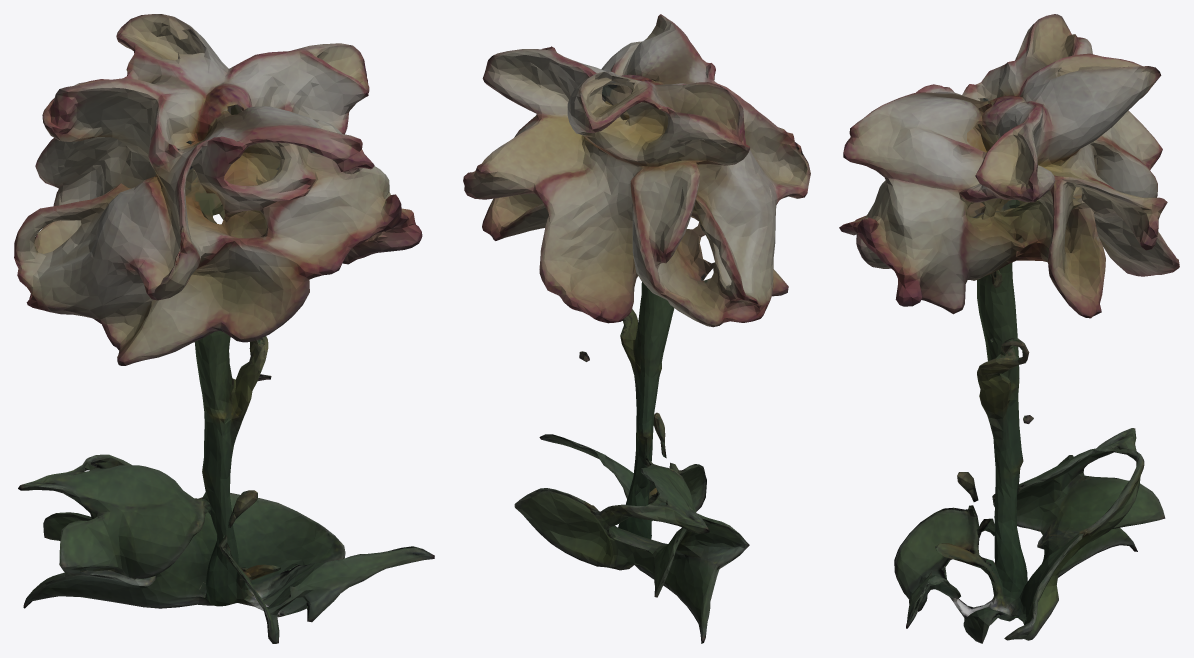
3 renders of one model, left to right at view 1: azimuth 30°, elevation 25°; view 2: azimuth 150°, elevation 25°; view 3: azimuth 270°, elevation 25°, orthographic. The views are drawn at different scales.
Visible parts, largest first — view 1: world; view 2: world; view 3: world.
Boxes of the visible parts, x1,y1,x2,y2 form: world: (14,14,434,643); world: (463,14,810,643); world: (839,14,1179,643).
Size of the model in its own units: 0.5747 by 0.9492 by 0.5325.
1 material, 1 textured.
